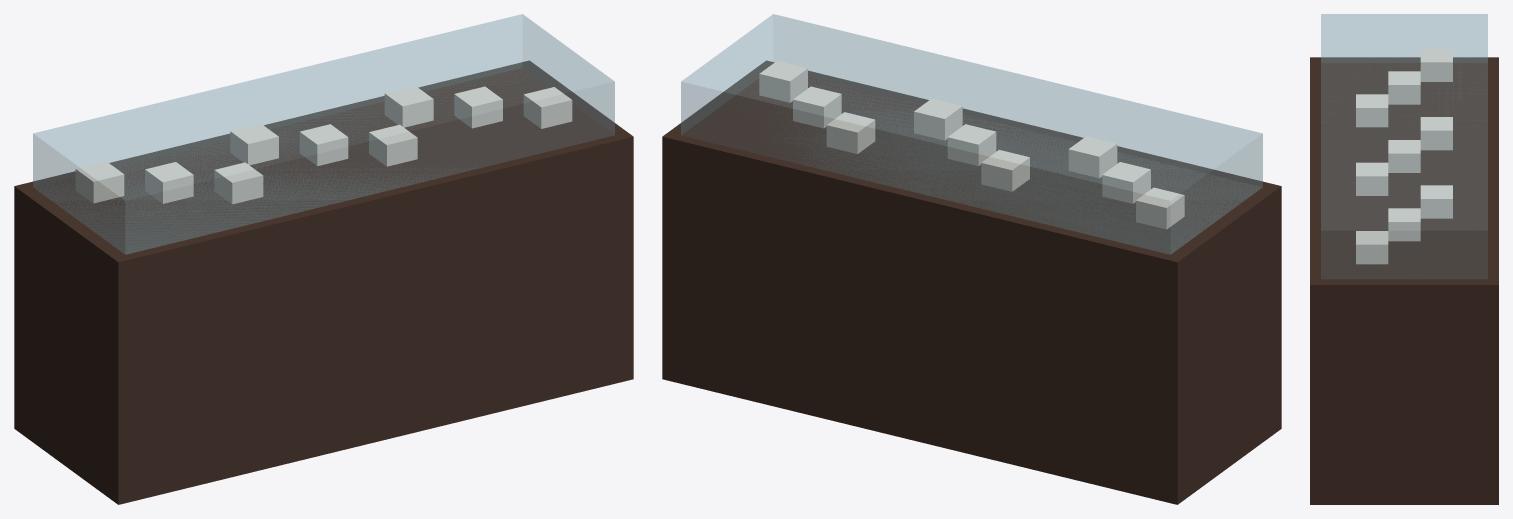
The model's file is vitrine_conchas.glb.
3 renders of one model, left to right at view 1: azimuth 30°, elevation 25°; view 2: azimuth 150°, elevation 25°; view 3: azimuth 270°, elevation 25°, orthographic. The views are drawn at different scales.
Visible parts, largest first — view 1: Malha_0; view 2: Malha_0; view 3: Malha_0.
Part boxes in pixels (x1=…): Malha_0: x1=14, y1=14, x2=633, y2=504; Malha_0: x1=662, y1=14, x2=1281, y2=504; Malha_0: x1=1310, y1=14, x2=1498, y2=504.
Size of the model in its own units: 2 by 1.1 by 0.7.
